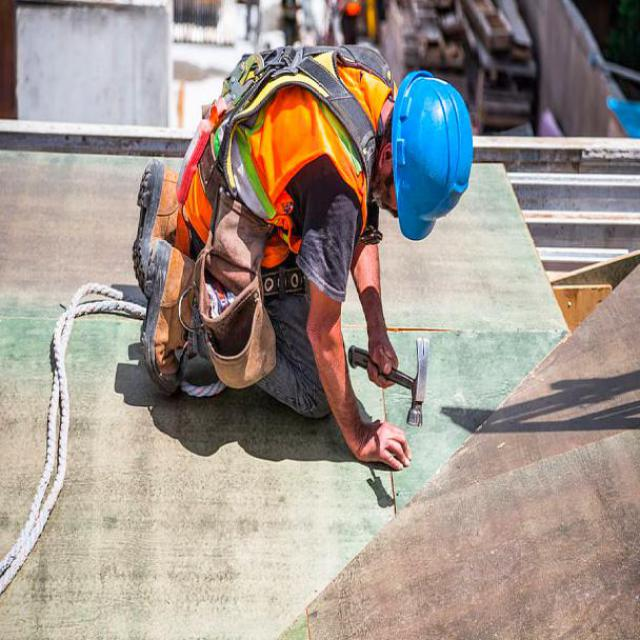helmet: (379, 70, 501, 252)
vest: (167, 34, 395, 299)
